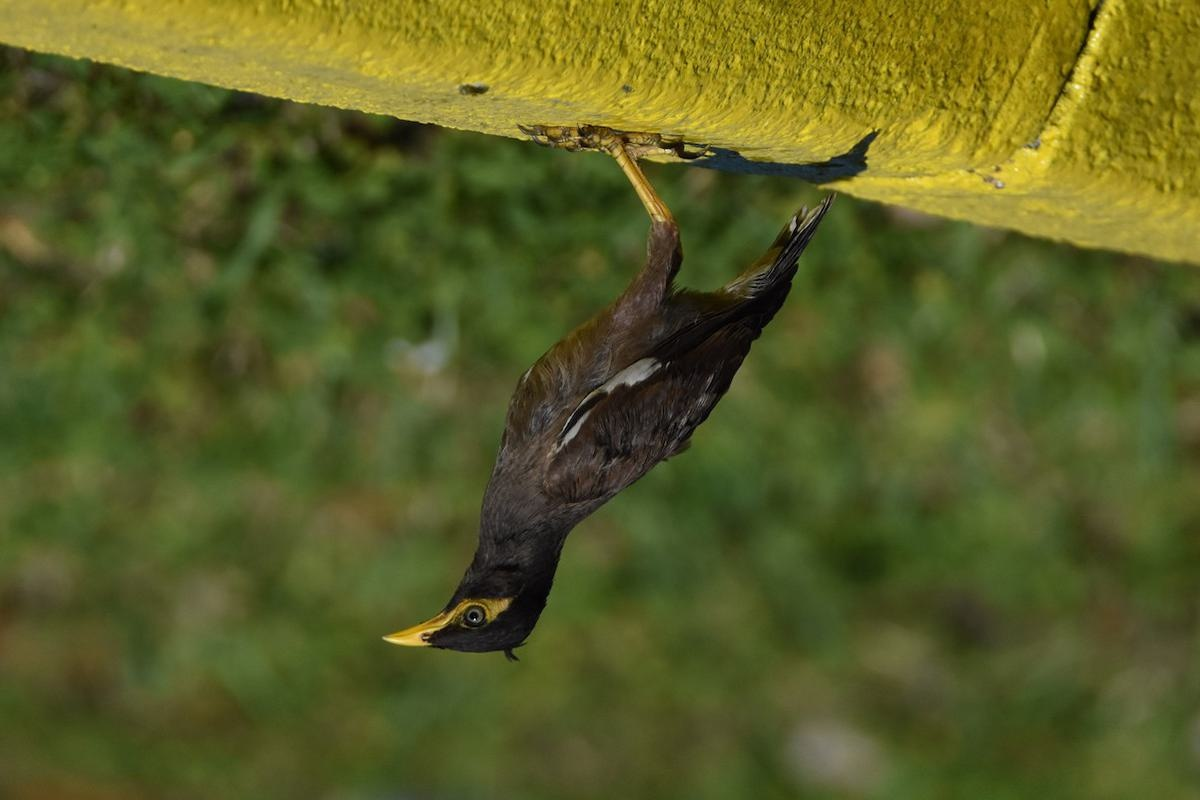myna: (347, 158, 881, 693)
